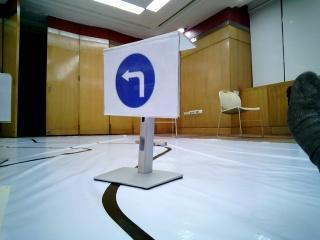left: (108, 53, 171, 110)
